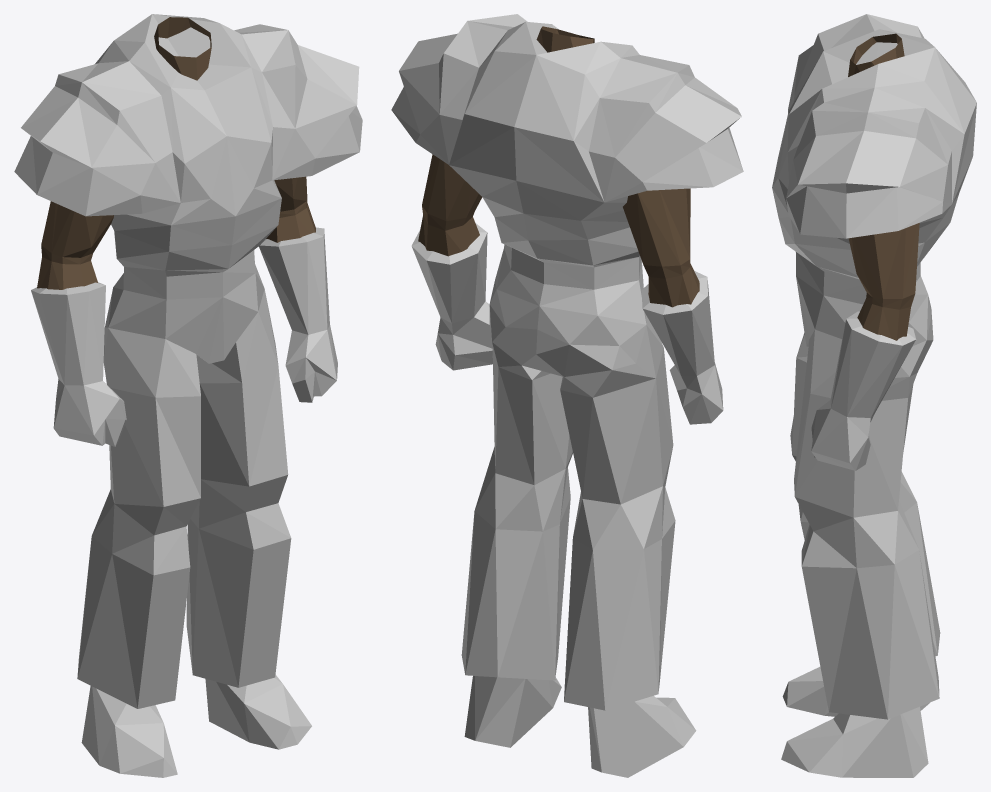
Rendered from ARMOR_SLD_H.OBJ.
3 views of the same model, side by side, from view 1: azimuth 30°, elevation 25°; view 2: azimuth 150°, elevation 25°; view 3: azimuth 270°, elevation 25° (orthographic). The views are drawn at different scales.
Visible parts, largest first — view 1: ARMOR_SLD_H; view 2: ARMOR_SLD_H; view 3: ARMOR_SLD_H.
Part boxes in pixels (left/top/right/bottom): ARMOR_SLD_H: left=14, top=14, right=362, bottom=777; ARMOR_SLD_H: left=391, top=14, right=743, bottom=777; ARMOR_SLD_H: left=772, top=14, right=976, bottom=777.
Size of the model in its own units: 0.8102 by 1.7 by 0.4483.
